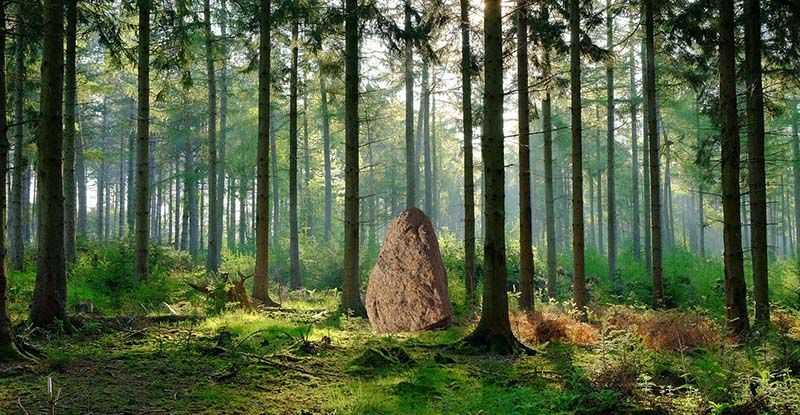Rocks: (361, 205, 454, 335)
